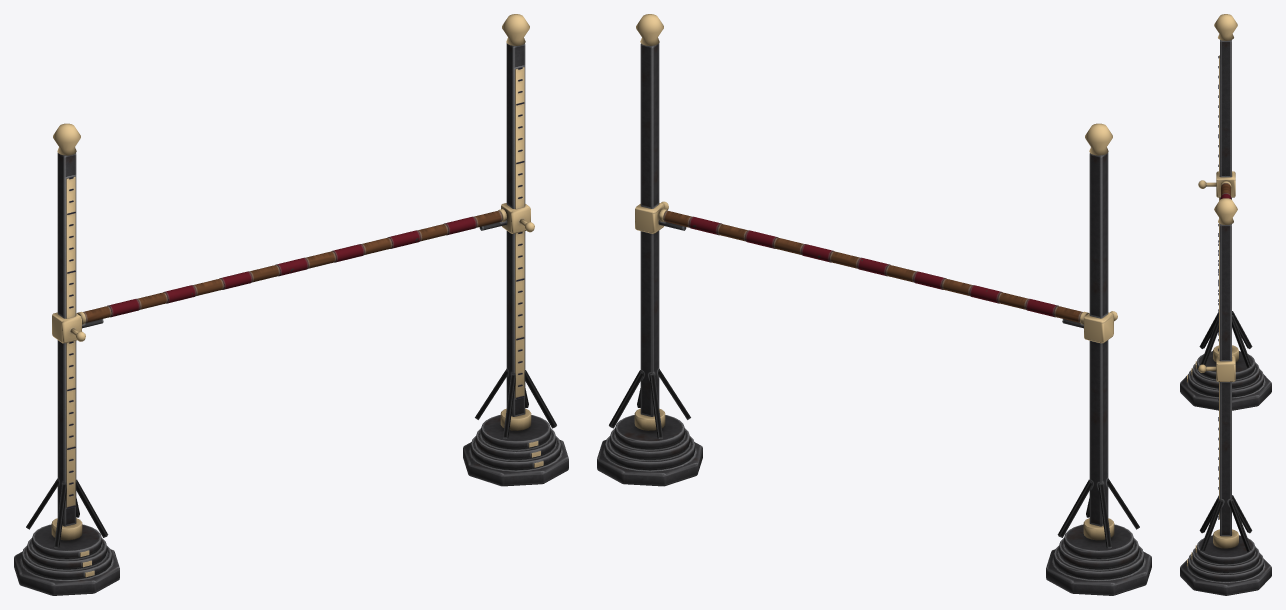
The model's file is HighJumpStands.fbx.
The picture shows the model from 3 angles, left to right: view 1: azimuth 30°, elevation 25°; view 2: azimuth 150°, elevation 25°; view 3: azimuth 270°, elevation 25°; orthographic projection. The views are drawn at different scales.
Visible parts, largest first — view 1: HighJumpStands; view 2: HighJumpStands; view 3: HighJumpStands.
Part boxes in pixels (left/top/right/bottom): HighJumpStands: left=14, top=14, right=568, bottom=595; HighJumpStands: left=597, top=14, right=1151, bottom=595; HighJumpStands: left=1180, top=14, right=1271, bottom=595.
Size of the model in its own units: 969 by 765 by 169.
